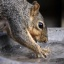squirrel: (0, 0, 49, 57)
